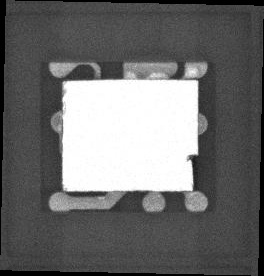DIE_BROKEN: (186, 153, 198, 191), (59, 80, 67, 114)
